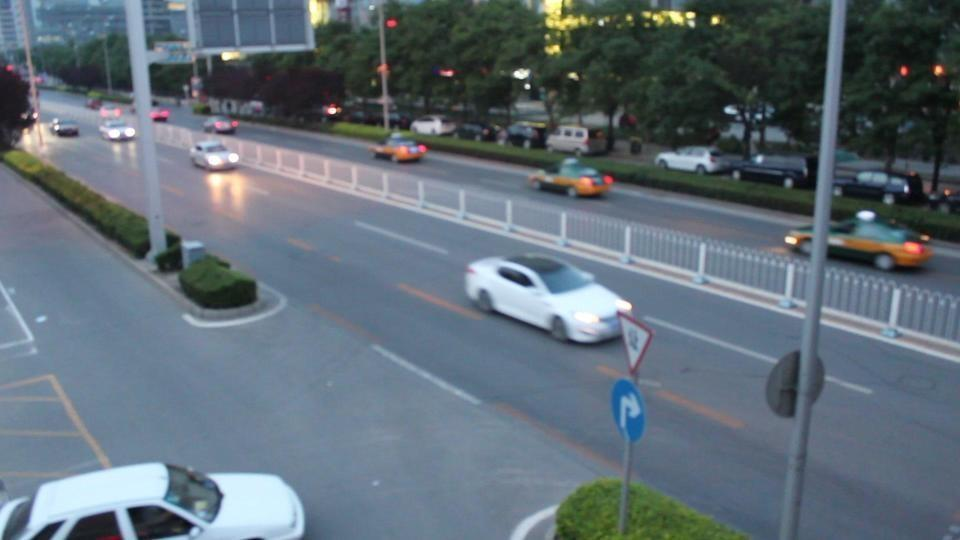car: (1, 460, 307, 538), (463, 254, 631, 344), (783, 212, 935, 272), (710, 154, 815, 189), (527, 159, 615, 199), (834, 169, 927, 205), (656, 146, 738, 177), (368, 133, 429, 164), (546, 126, 603, 156), (189, 139, 240, 171), (503, 123, 547, 149), (411, 116, 460, 138), (455, 122, 500, 142), (99, 119, 137, 141), (202, 117, 240, 134), (50, 119, 80, 138), (98, 102, 126, 120), (148, 107, 171, 123)
